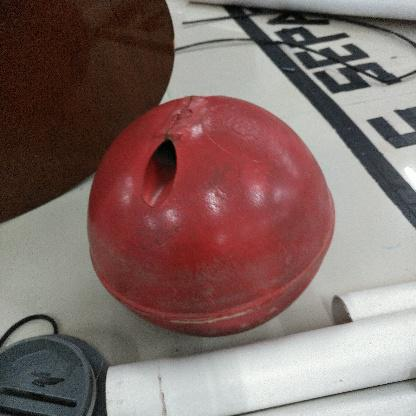red_buoy: (88, 94, 337, 338)
